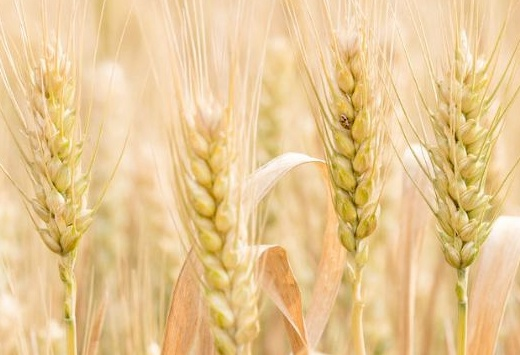wheat: (172, 103, 272, 350), (322, 20, 381, 292), (24, 38, 89, 282), (431, 40, 492, 287)
